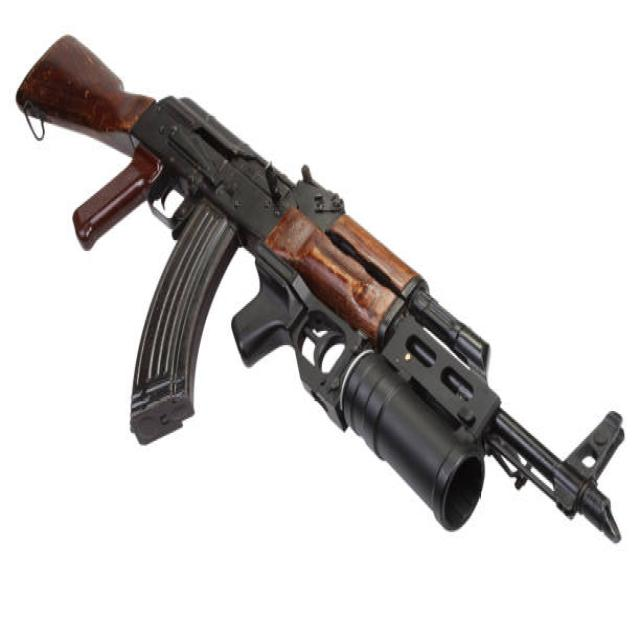rifle: (15, 33, 635, 556)
